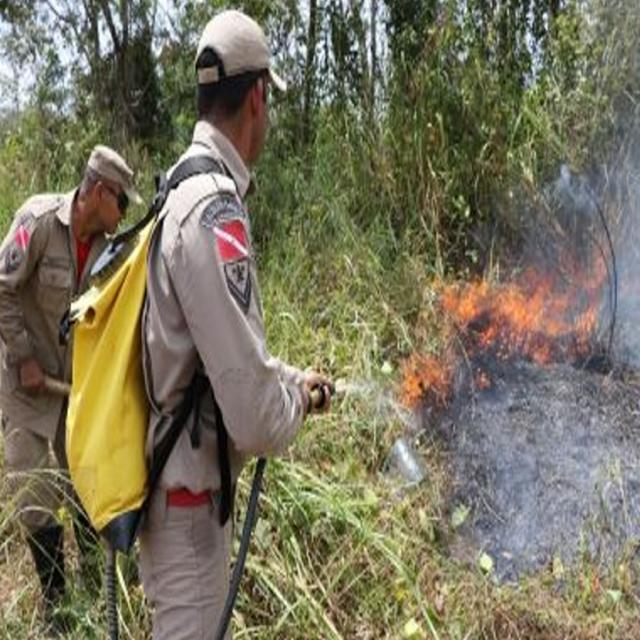Fire: (430, 265, 598, 353), (392, 349, 447, 402)
